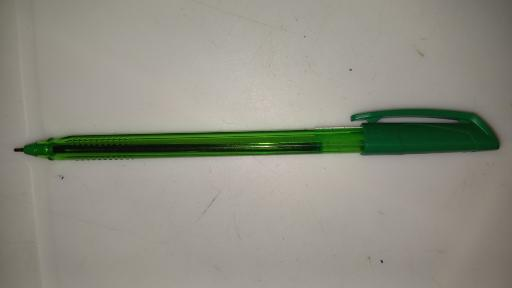pen: (12, 108, 503, 159)
